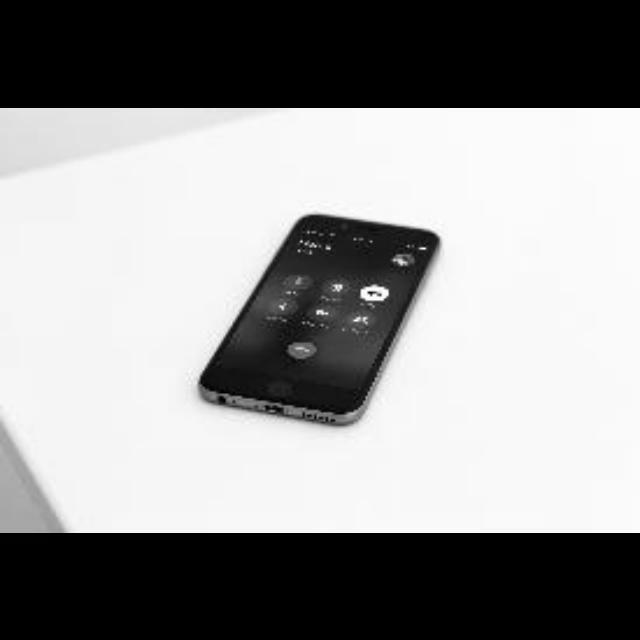fake: (196, 206, 440, 428)
